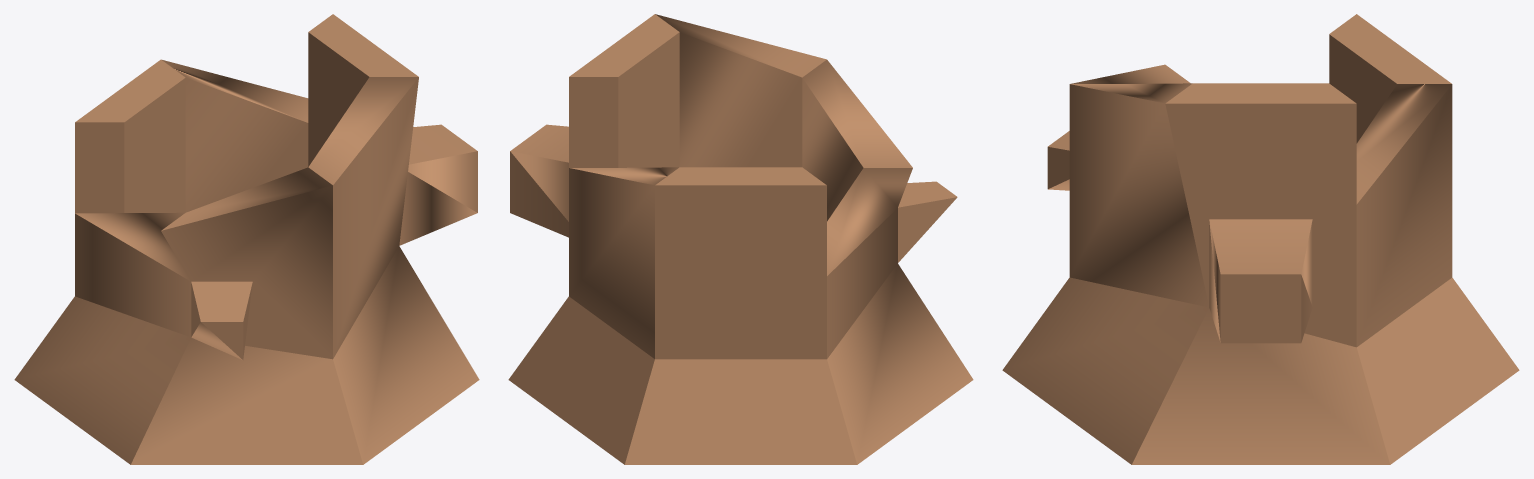
File: cc0-stump-lod1.glb
3 views of the same model, side by side, from view 1: azimuth 30°, elevation 25°; view 2: azimuth 150°, elevation 25°; view 3: azimuth 270°, elevation 25° (orthographic). The views are drawn at different scales.
Parts seen in each view (by area): view 1: part_0; view 2: part_0; view 3: part_0.
Part boxes in pixels (left/top/right/bottom): part_0: left=14, top=14, right=479, bottom=464; part_0: left=508, top=14, right=973, bottom=464; part_0: left=1002, top=14, right=1519, bottom=464.
Size of the model in its own units: 0.3565 by 0.2665 by 0.371.
